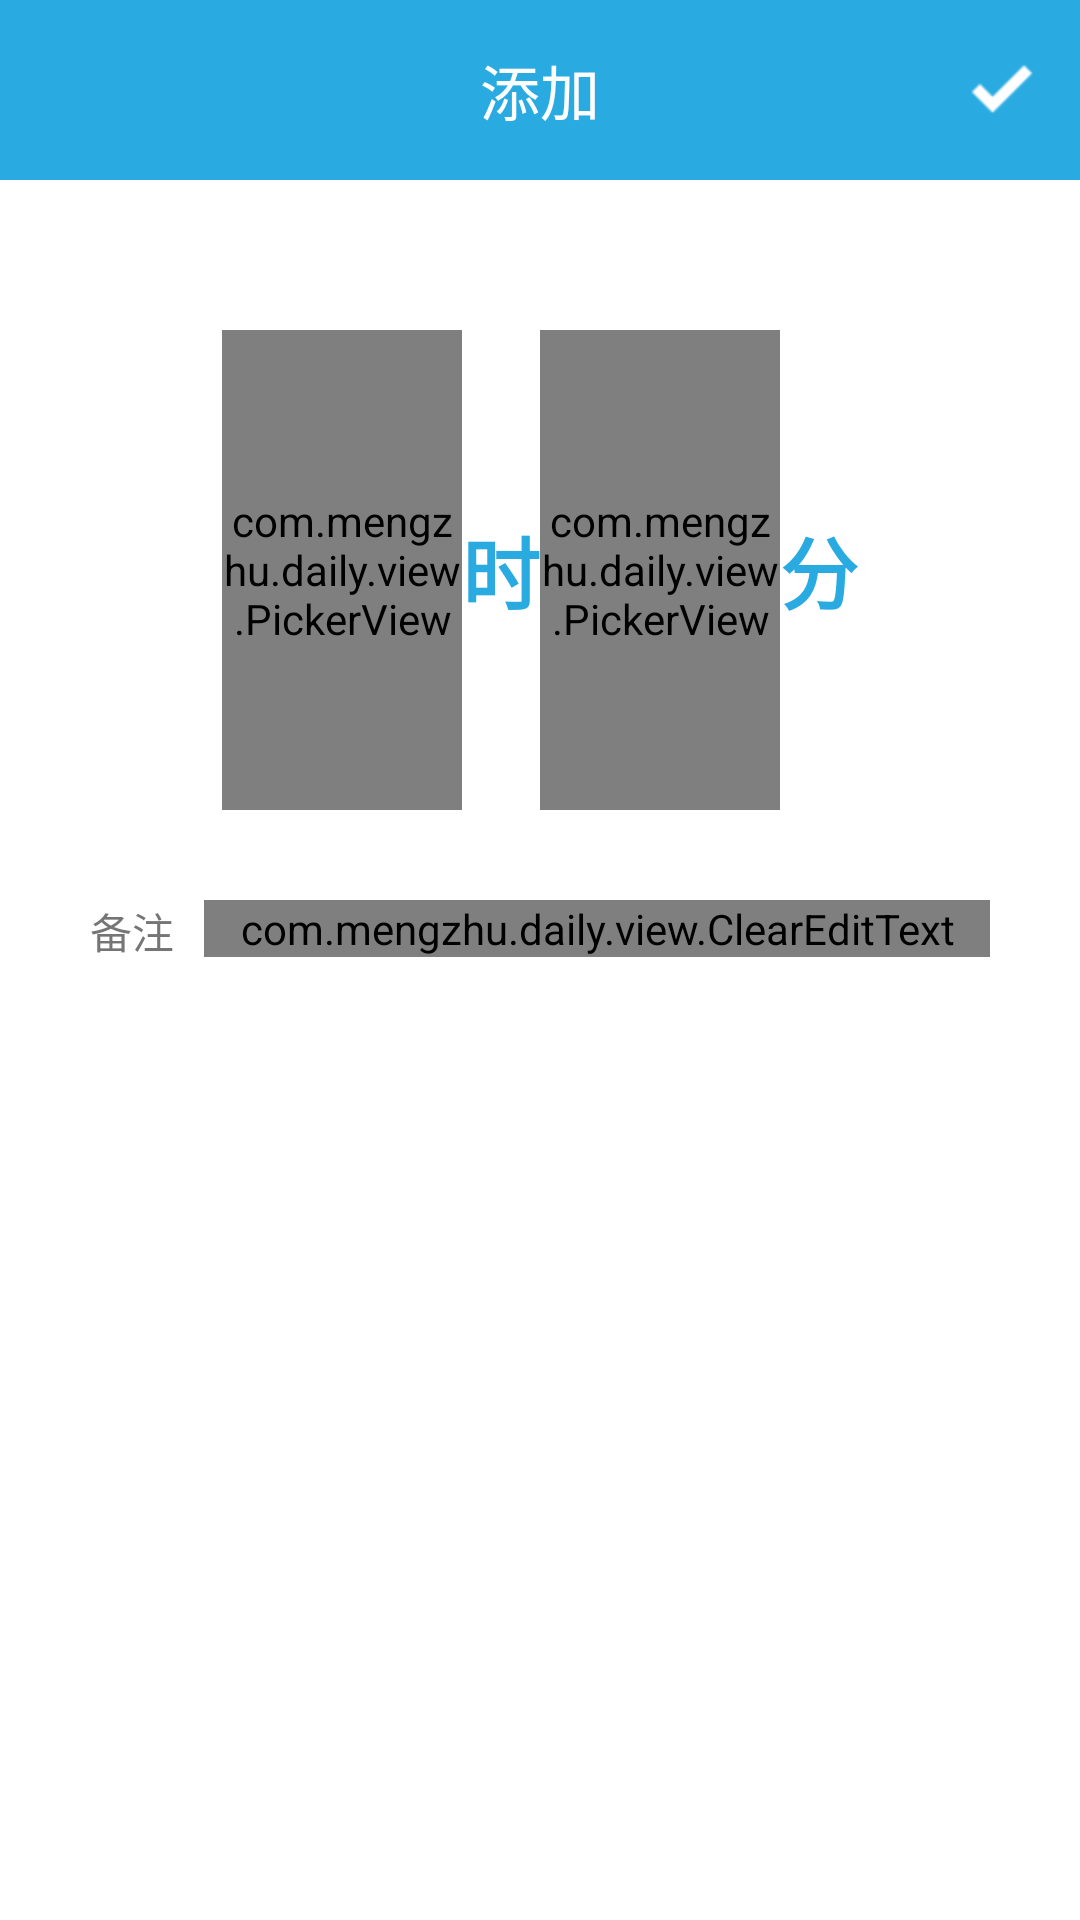

Screen size 1080w x 1920h. Icon name, then its box in pixels as (x1,y1,x2,y2):
save: (971,65,1033,113)
